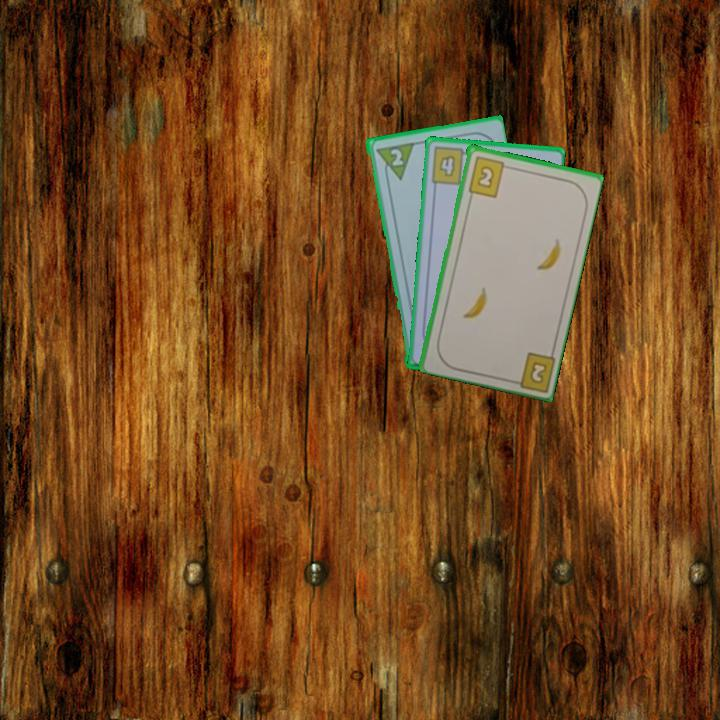2b: (464, 152, 513, 200), (506, 348, 557, 393)
2p: (372, 139, 415, 184)
4b: (427, 144, 473, 188)
